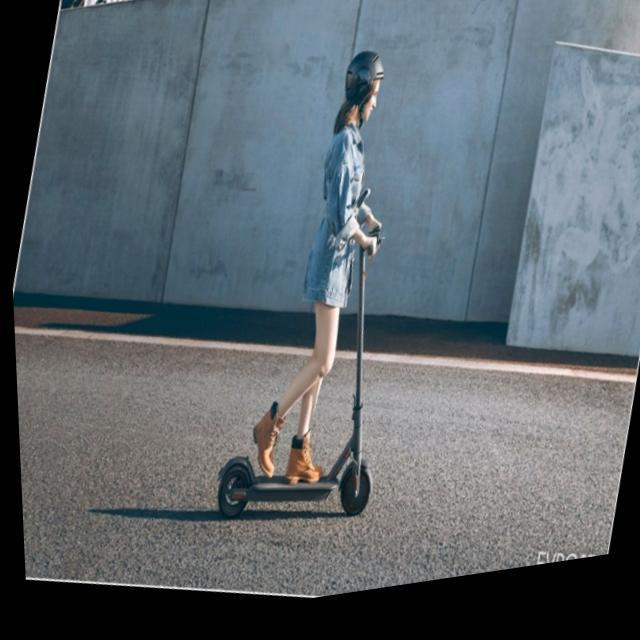Helmet: (331, 42, 392, 132)
